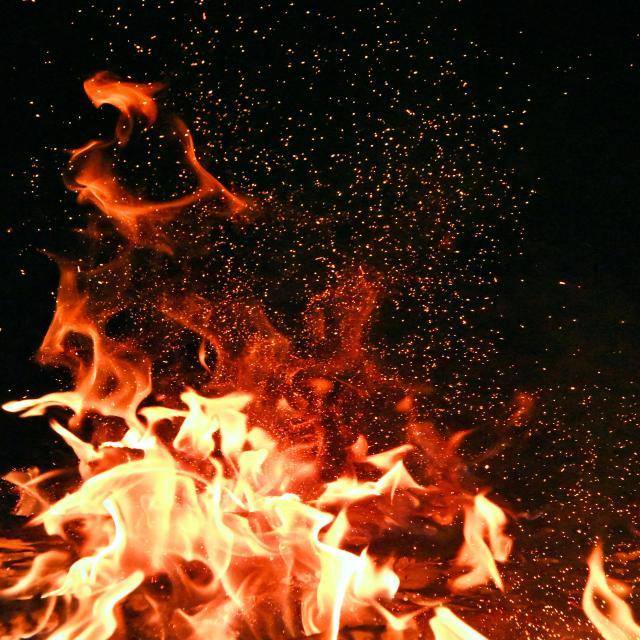Fire: (26, 358, 498, 640)
